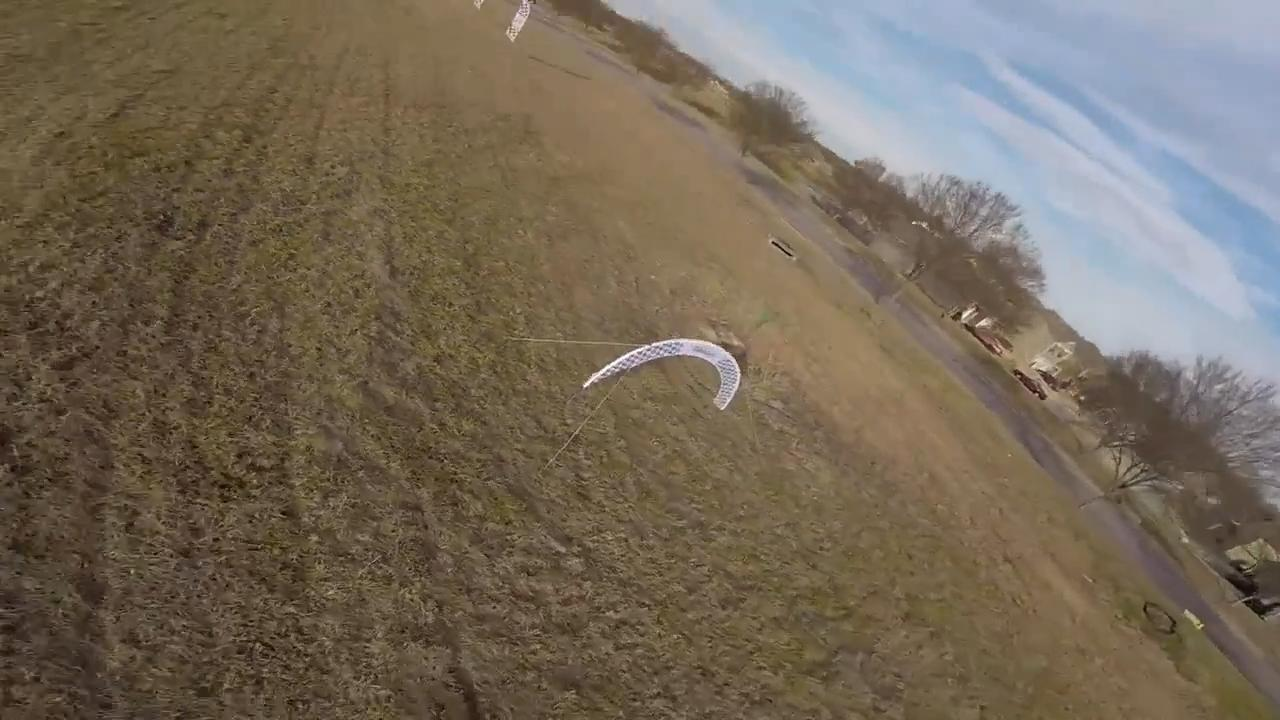gate: (582, 336, 743, 411)
